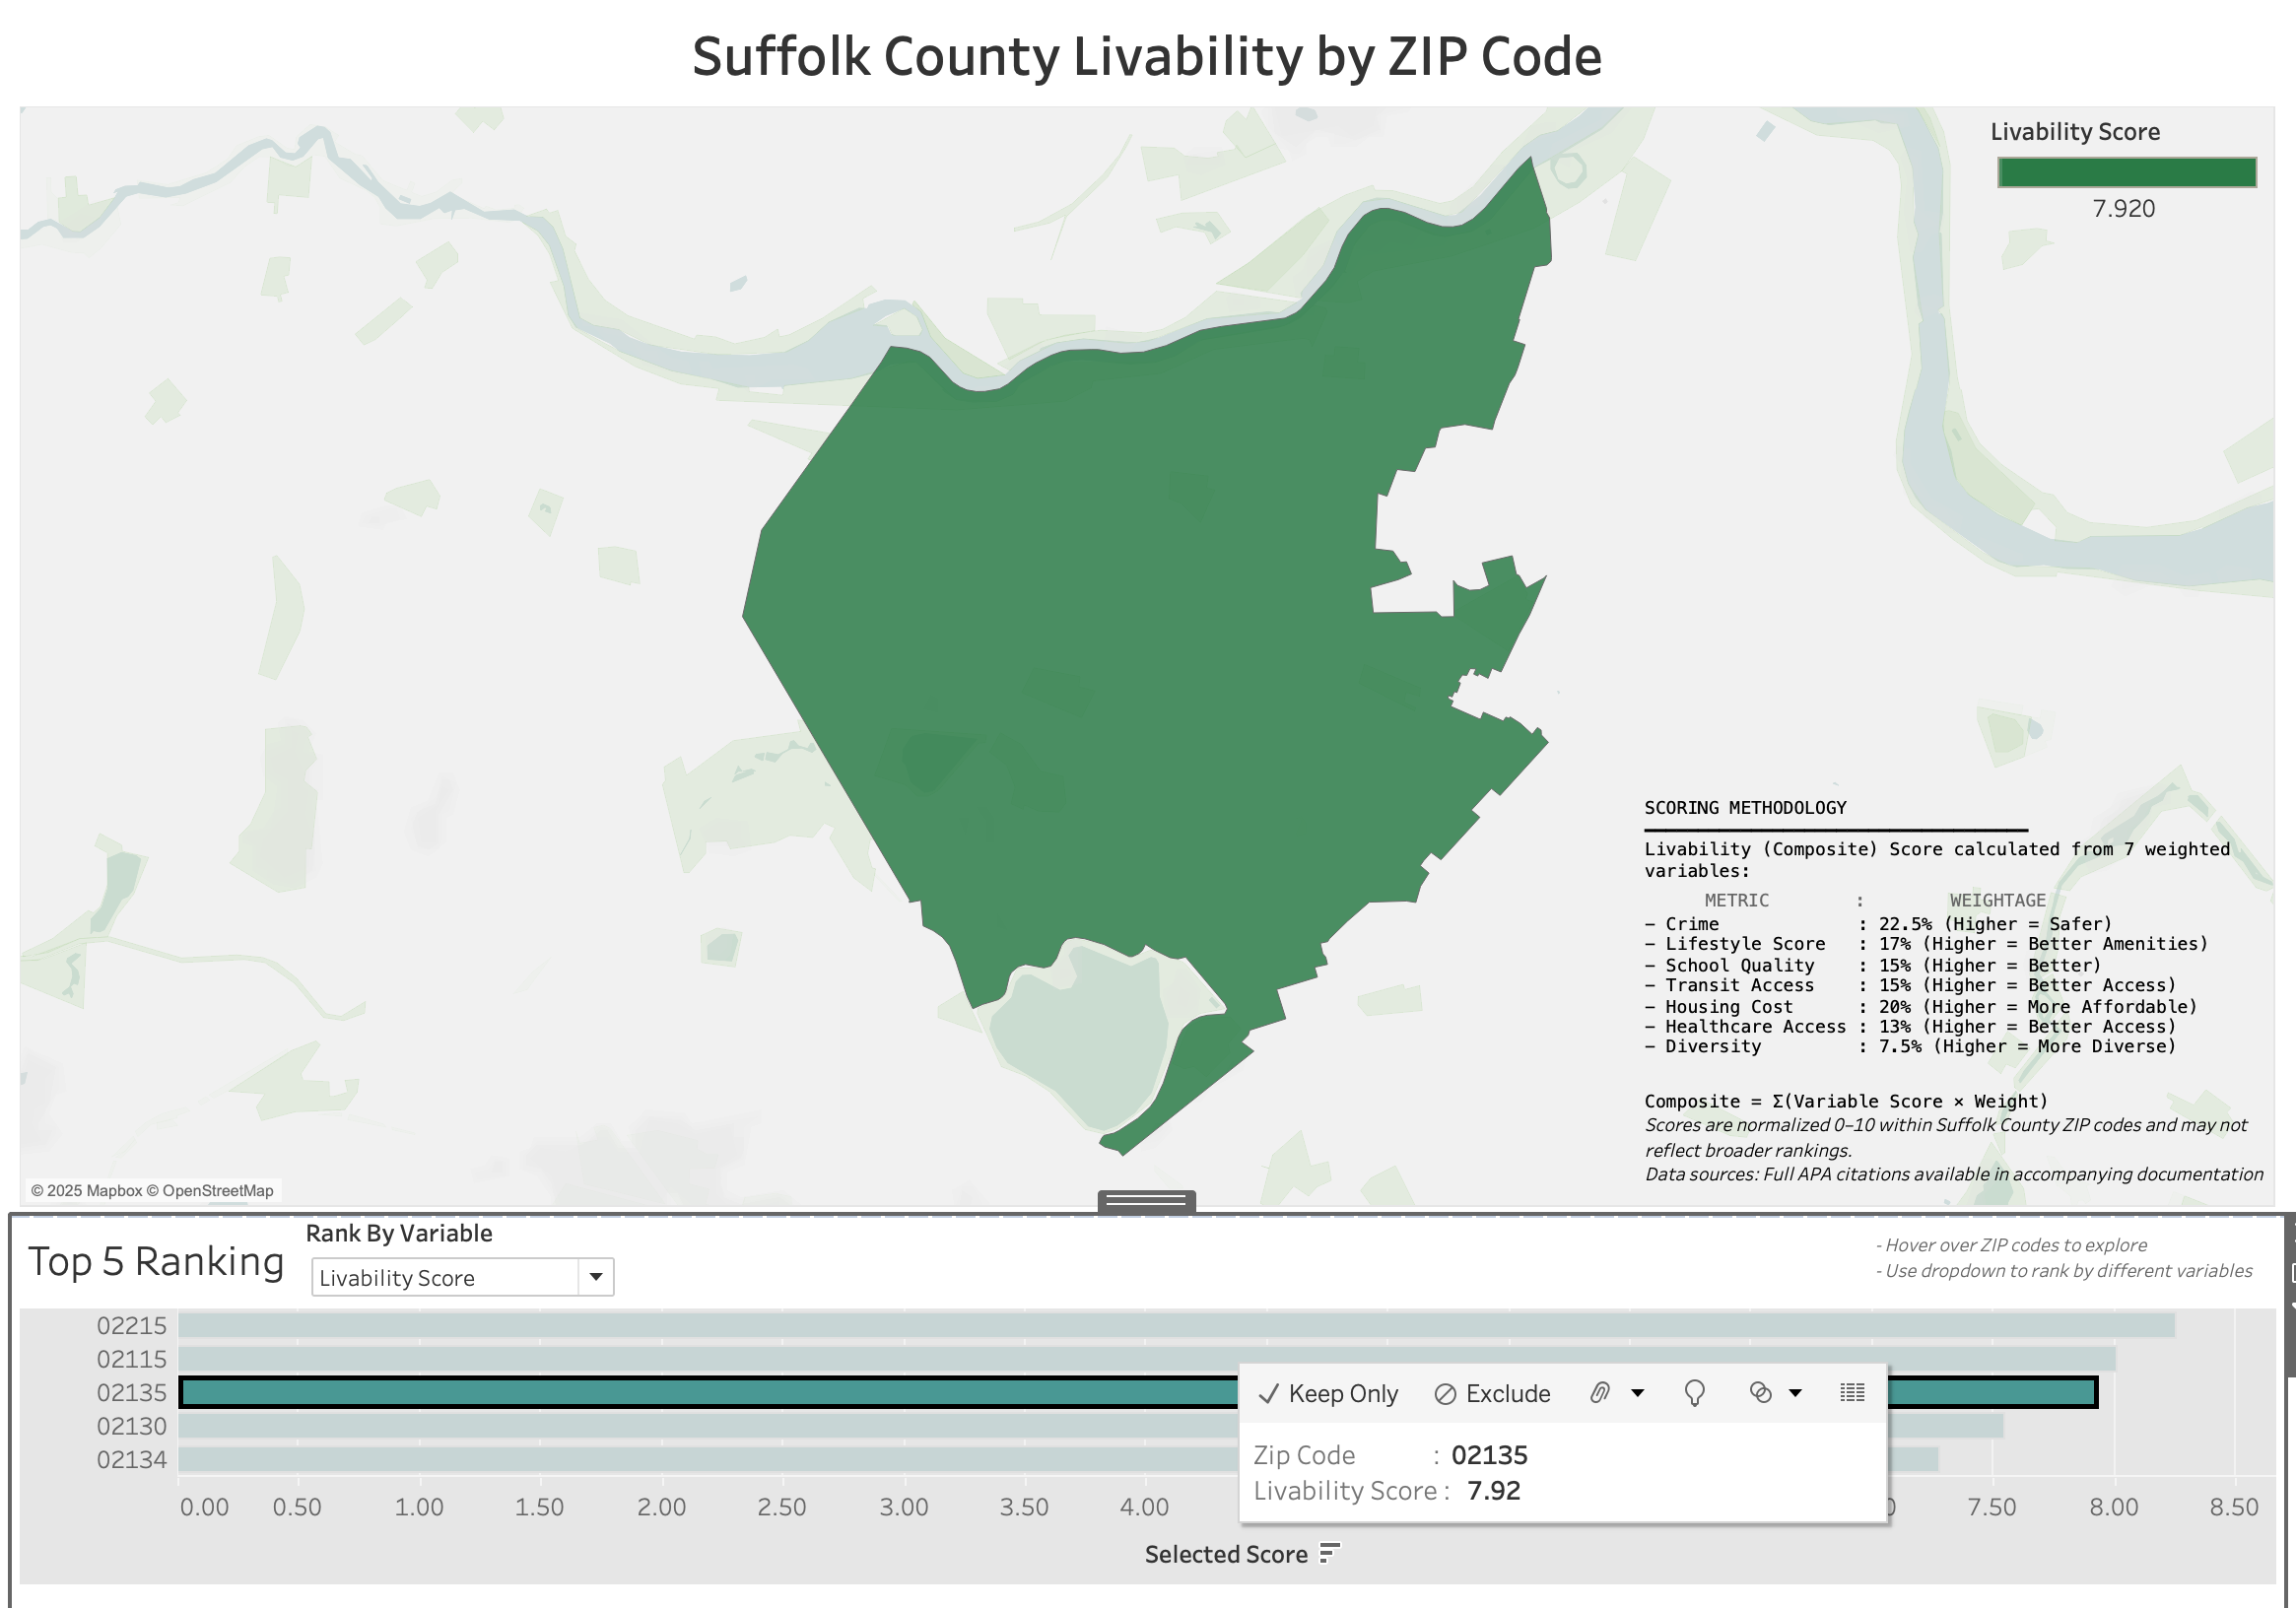

The page's visual inventory and layout, read from the dashboard file:
{"tool":"tableau","page":{"name":"Suffolk County Livability by ZIP Code","canvas":[1169,827],"ordinal":0},"visuals":[{"type":"title","box":[8,8,1153,45]},{"type":"worksheet","title":"Livability Map","mark":"Automatic","box":[8,53,1153,567]},{"type":"legend","title":"Livability Map","param":"[federated.1d719s11xr9xd518nq5p11iurqjg].[sum:composite_score:qk]","box":[1012,61,140,76]},{"type":"text","box":[834,408,320,206]},{"type":"legend","title":"Top 5 Ranking","param":"[federated.1d719s11xr9xd518nq5p11iurqjg].[none:tier:nk]","box":[329,562,140,78]},{"type":"worksheet","title":"Top 5 Ranking","mark":"Automatic","rows":["zip_code (suffolk_livability_summary.csv)"],"cols":["Calculation_1255800624306360320"],"box":[8,620,1153,199]},{"type":"parameter","param":"[Parameters].[Parameter 1]","box":[157,620,160,44]}]}

Visuals, with their boxes in screenshot pixels (x1, y1, x2, y2), scaled from the page's 1169x827 canvas onto the 2296x1608 screenshot:
title: [16,16,2280,103]
"Livability Map" worksheet: [16,103,2280,1206]
"Livability Map" legend: [1988,118,2262,266]
text: [1638,793,2266,1194]
"Top 5 Ranking" legend: [646,1093,921,1244]
"Top 5 Ranking" worksheet: [16,1206,2280,1592]
parameter: [308,1206,623,1291]
